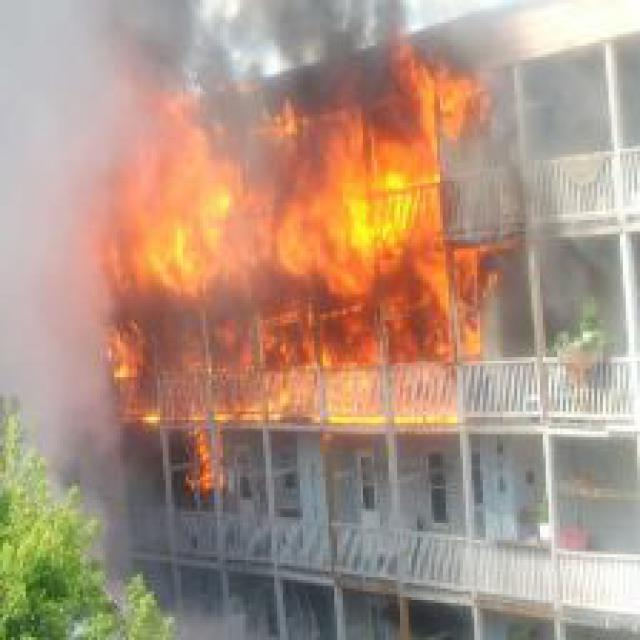fire: (271, 52, 486, 377), (86, 80, 266, 431)
